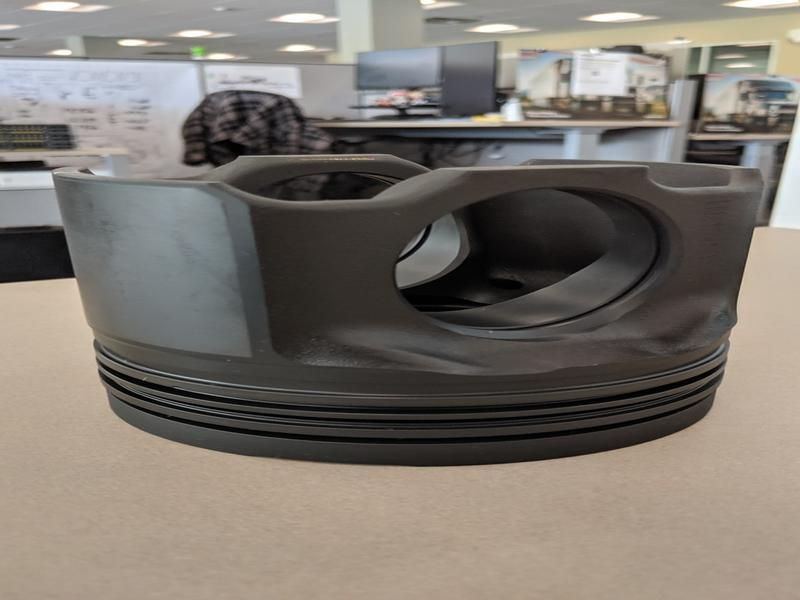piston: (49, 151, 769, 470)
